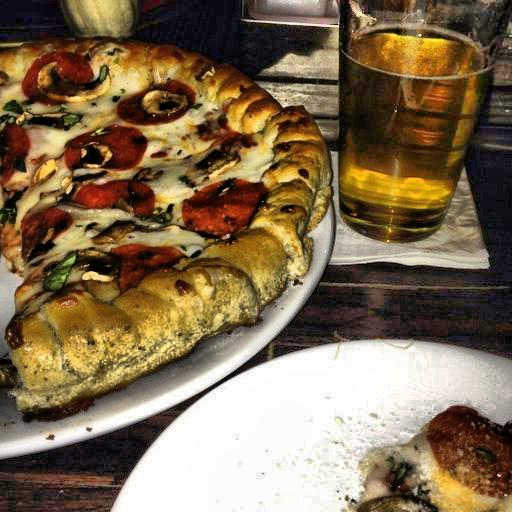pizza: (7, 29, 334, 401)
